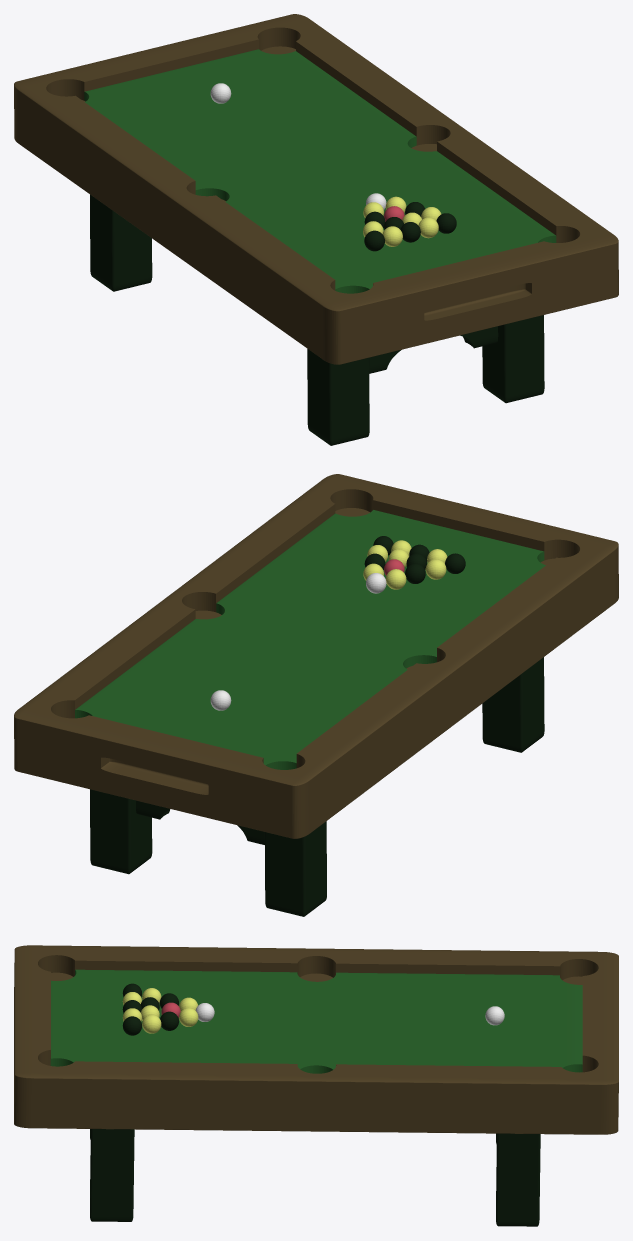
The model's file is mesa de billar.fbx.
3 renders of one model, top to bottom at view 1: azimuth 30°, elevation 25°; view 2: azimuth 150°, elevation 25°; view 3: azimuth 270°, elevation 25°, orthographic. The views are drawn at different scales.
Parts seen in each view (by area): view 1: tinker:group_0_16050118, tinker:group_0_4634441, tinker:group_0_15277357, tinker:group_0_16768282; view 2: tinker:group_0_16050118, tinker:group_0_4634441, tinker:group_0_15277357, tinker:group_0_16768282, tinker:group_0_16448250; view 3: tinker:group_0_16050118, tinker:group_0_4634441, tinker:group_0_15277357, tinker:group_0_16768282, tinker:group_0_16448250.
Part boxes in pixels (x1,y1,x2,y2): tinker:group_0_16050118: (14, 14, 618, 364); tinker:group_0_4634441: (84, 49, 556, 293); tinker:group_0_15277357: (90, 194, 544, 445); tinker:group_0_16768282: (363, 196, 441, 246); tinker:group_0_16050118: (14, 474, 618, 838); tinker:group_0_4634441: (75, 510, 545, 769); tinker:group_0_15277357: (90, 536, 544, 916); tinker:group_0_16768282: (363, 540, 447, 589); tinker:group_0_16448250: (210, 573, 386, 710); tinker:group_0_16050118: (14, 945, 618, 1134); tinker:group_0_4634441: (50, 969, 582, 1073); tinker:group_0_15277357: (90, 983, 540, 1226); tinker:group_0_16768282: (122, 988, 198, 1033); tinker:group_0_16448250: (195, 1003, 504, 1025).
Size of the model in its own units: 65 by 40.06 by 125.
